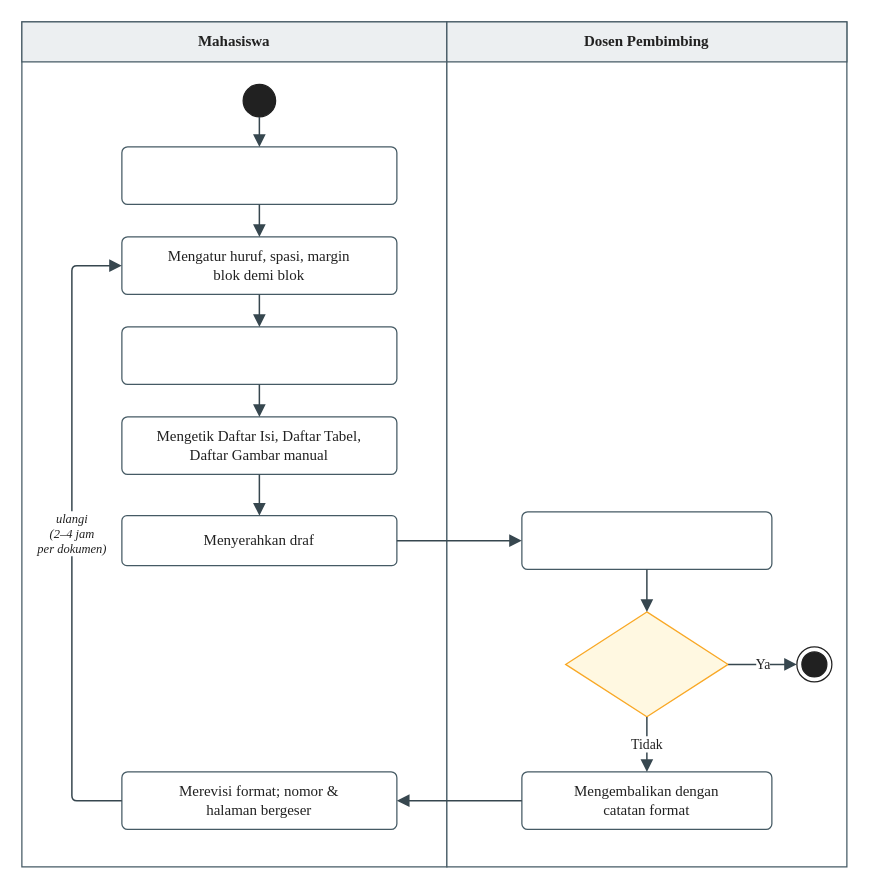
The diagram is 869 pixels wide and 889 high, and some of its shapes have lost their labels. Each missing label, with the centre of its shape:
"Format sesuai?" goes at (x=646, y=664).
"Membuat nomor halaman Romawi/ Arab (sering memecah berkas)" goes at (x=259, y=355).
"Memeriksa format secara visual" goes at (x=646, y=540).
"Menulis naskah di Word; Styles/section tidak konsisten" goes at (x=259, y=175).
